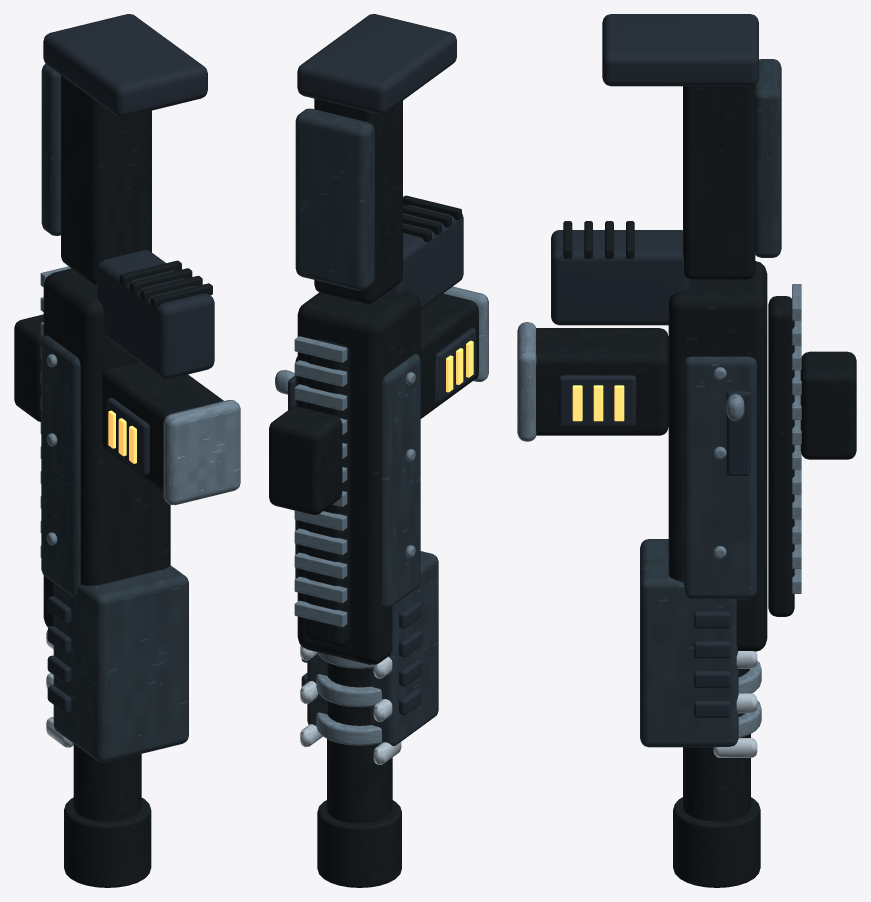
Rendered from enemy_rifle.glb.
3 renders of one model, left to right at view 1: azimuth 30°, elevation 25°; view 2: azimuth 150°, elevation 25°; view 3: azimuth 270°, elevation 25°, orthographic. The views are drawn at different scales.
Parts seen in each view (by area): view 1: Chamfered upper receiver, Adjustable cheek rest, Bolt access inset, Barrel cooling ring, Energy charge indicator; view 2: Chamfered upper receiver, Adjustable cheek rest, Bolt access inset, Barrel cooling ring, Energy charge indicator; view 3: Chamfered upper receiver, Adjustable cheek rest, Bolt access inset, Barrel cooling ring, Energy charge indicator.
Boxes of the visible parts, box(x1,y1,x2,y2) form: Chamfered upper receiver: box(14, 75, 223, 887); Adjustable cheek rest: box(41, 64, 188, 762); Bolt access inset: box(43, 14, 214, 713); Barrel cooling ring: box(40, 266, 240, 557); Energy charge indicator: box(108, 410, 136, 463); Chamfered upper receiver: box(269, 98, 478, 887); Adjustable cheek rest: box(295, 108, 438, 746); Bolt access inset: box(288, 14, 475, 715); Barrel cooling ring: box(275, 286, 488, 745); Energy charge indicator: box(446, 340, 473, 392); Chamfered upper receiver: box(536, 85, 856, 887); Adjustable cheek rest: box(640, 59, 781, 747); Bolt access inset: box(551, 14, 758, 717); Barrel cooling ring: box(517, 284, 801, 737); Energy charge indicator: box(572, 385, 624, 421).
Size of the model in its own units: 0.1415 by 0.8505 by 0.3095.
Materials: 7 (3 with a texture image).
